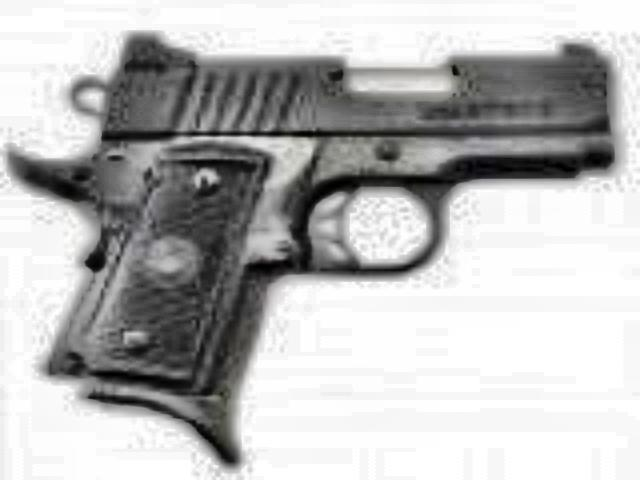pistol: (0, 28, 616, 456)
